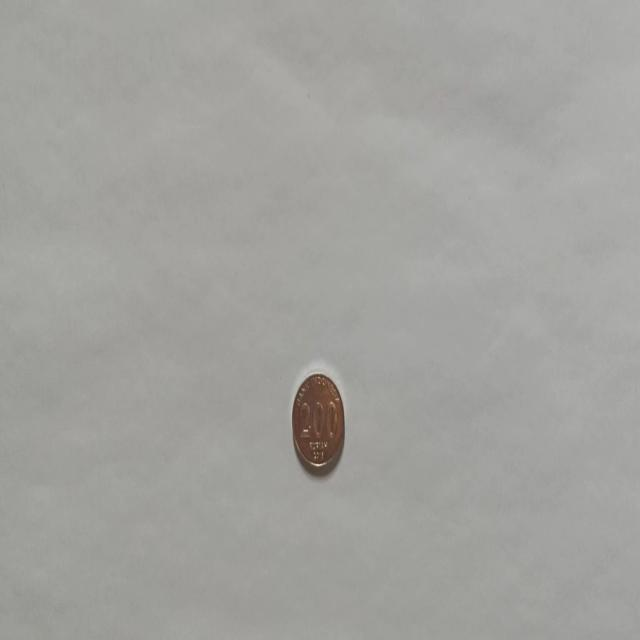dua ratus rupiah: (290, 370, 346, 474)
